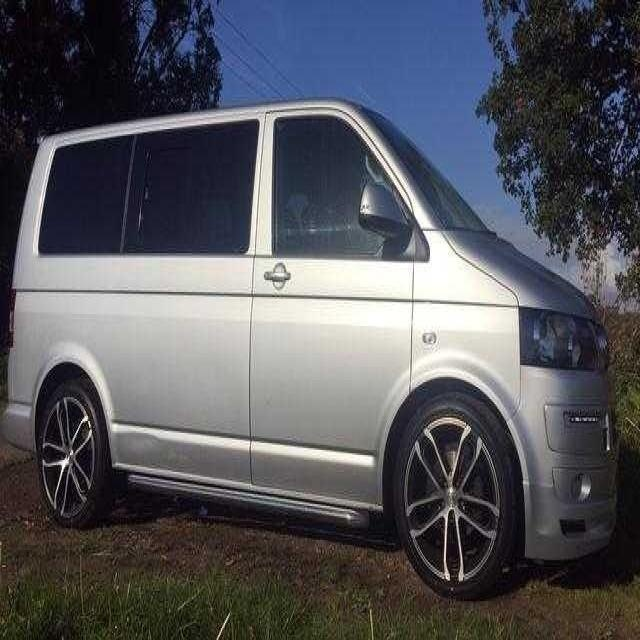Van: (7, 90, 621, 596)
